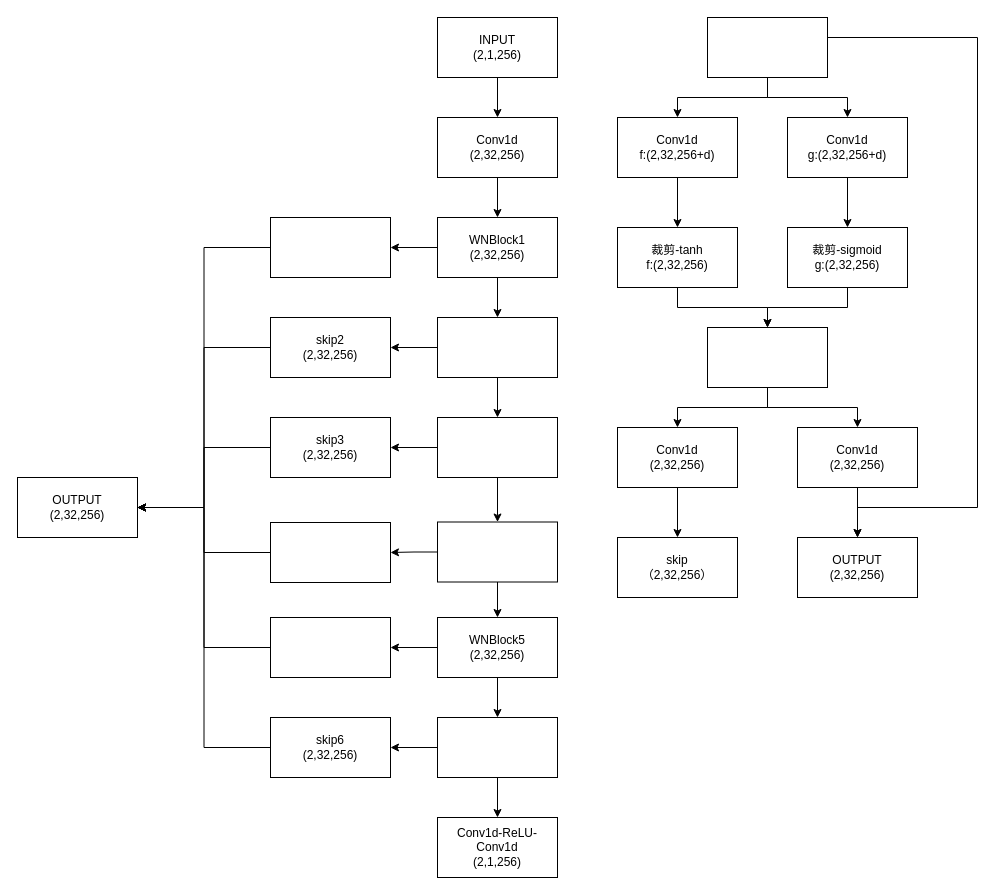
This 1003x895 diagram has some shape labels left out. The box of each missing label's shape, as (x1, y1, x2, y2) in pixels:
f *g (2,32,256): (706, 326, 828, 388)
INPUT (2,32,256): (706, 16, 828, 78)
skip1 (2,32,256): (270, 216, 390, 278)
skip4 (2,32,256): (270, 522, 390, 582)
skip5 (2,32,256): (270, 616, 390, 678)
WNBlock2 (2,32,256): (436, 316, 558, 378)
WNBlock3 (2,32,256): (436, 416, 558, 478)
WNBlock4 (2,32,256): (436, 521, 558, 582)
WNBlock6 (2,32,256): (436, 716, 558, 778)
